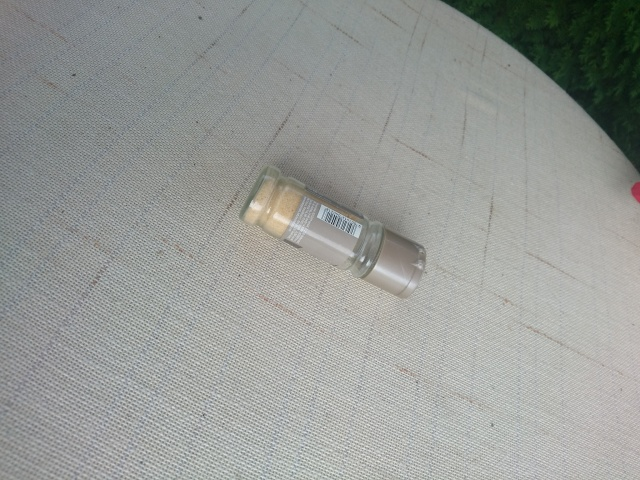Kotanyi Garlic Granules 70g: (236, 163, 428, 300)
